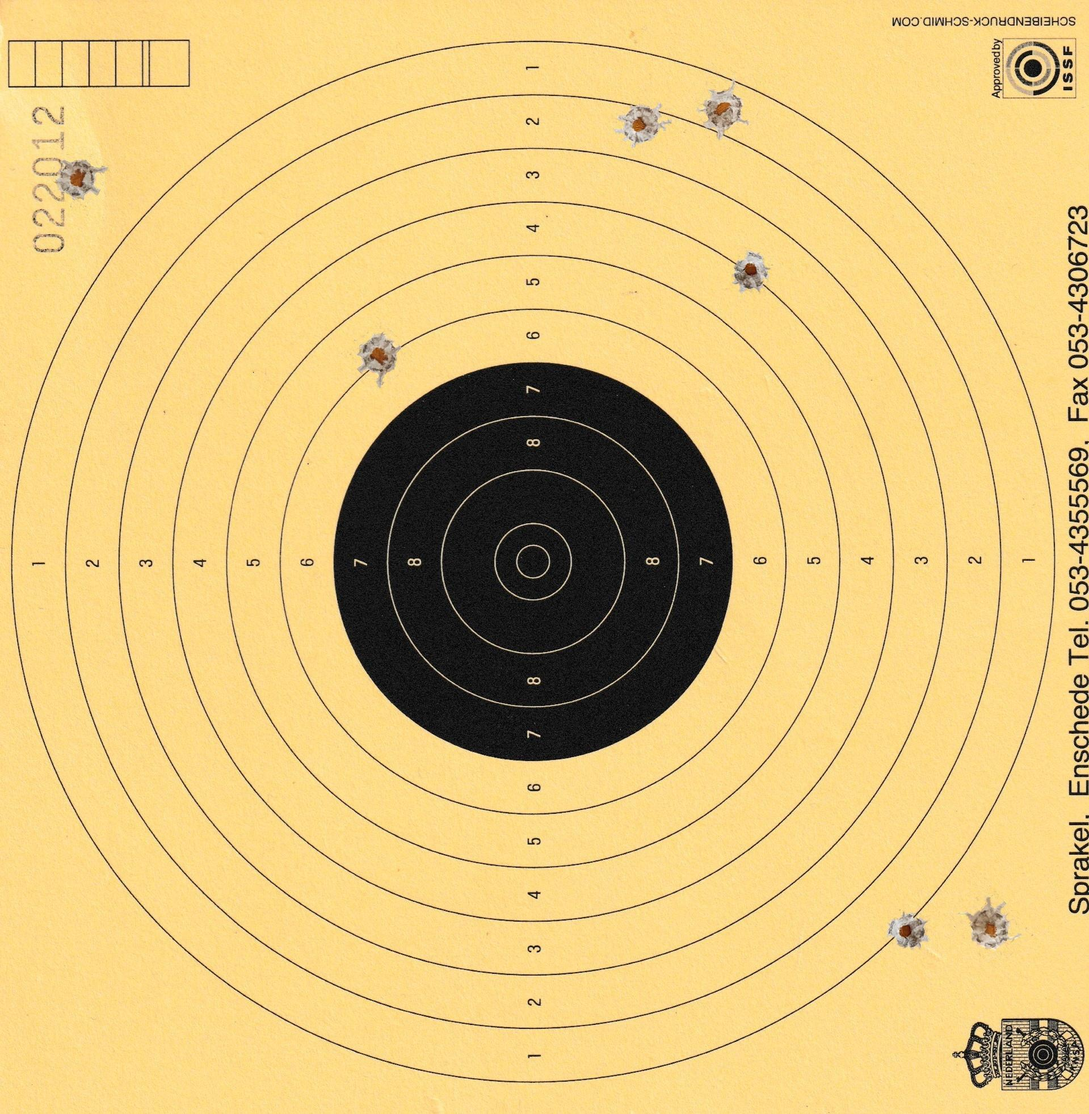hole: (961, 899, 1017, 951), (358, 333, 402, 388), (54, 160, 110, 202), (704, 82, 745, 136), (617, 104, 668, 146), (732, 253, 773, 296), (885, 913, 927, 951)
